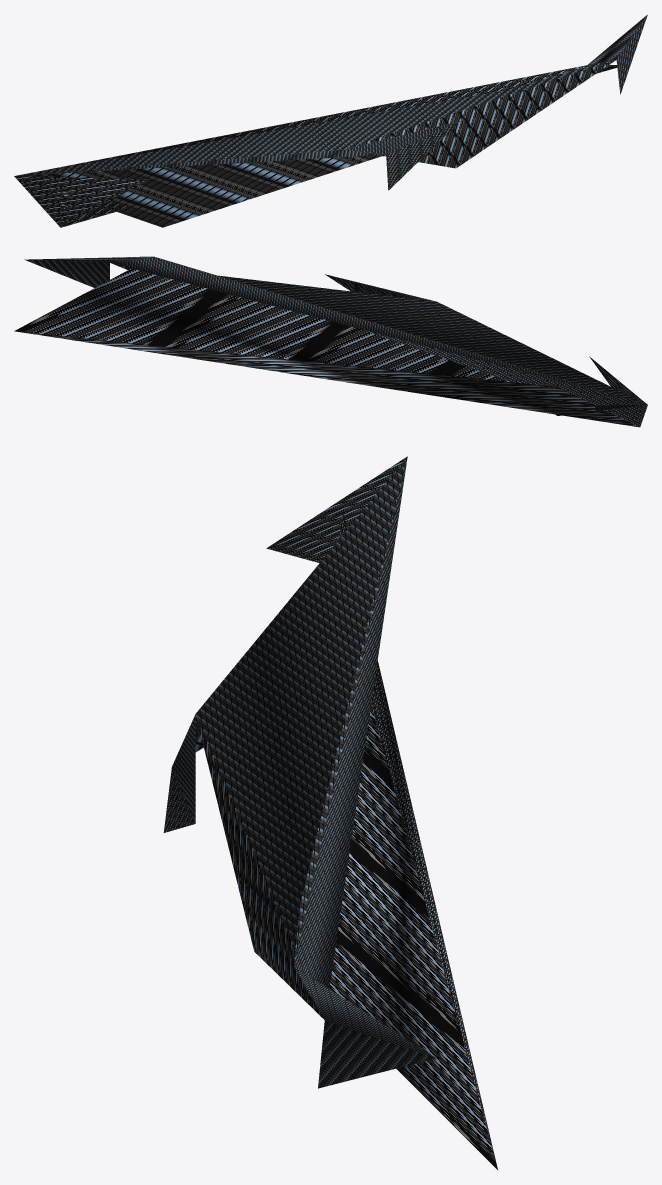
Rendered from counterrig.obj.
3 renders of one model, top to bottom at view 1: azimuth 30°, elevation 25°; view 2: azimuth 150°, elevation 25°; view 3: azimuth 270°, elevation 25°, orthographic. The views are drawn at different scales.
Parts seen in each view (by area): view 1: Plane003; view 2: Plane003; view 3: Plane003.
Boxes of the visible parts, x1=… form: Plane003: x1=14, y1=14, x2=647, y2=227; Plane003: x1=14, y1=256, x2=647, y2=427; Plane003: x1=163, y1=456, x2=497, y2=1169.
Bounding box in the file's own units: 742 × 67.74 × 174.
1 material, 1 textured.
